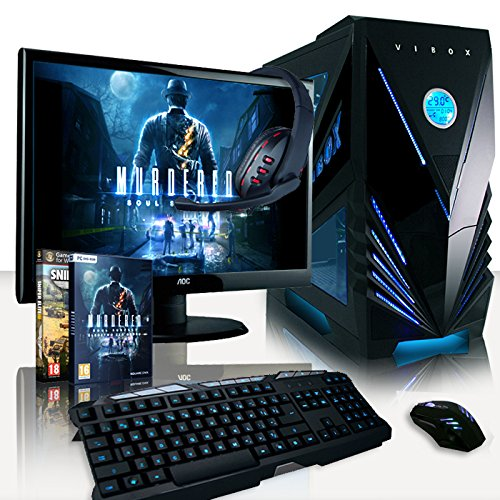Teclado: (63, 369, 393, 500)
